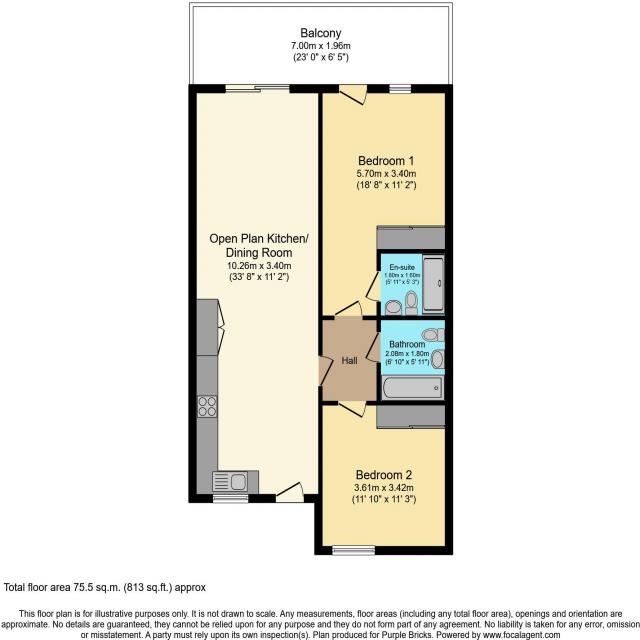DOOR: (273, 480, 305, 503), (338, 84, 369, 107), (332, 299, 364, 320), (318, 354, 336, 388), (363, 330, 381, 363), (337, 400, 368, 419), (364, 269, 381, 303)
ROOM: (188, 84, 336, 503), (318, 84, 454, 320), (314, 400, 454, 556)
SLIDING DOOR: (224, 83, 291, 94)
WINDOW: (330, 545, 376, 556), (388, 83, 412, 94)
